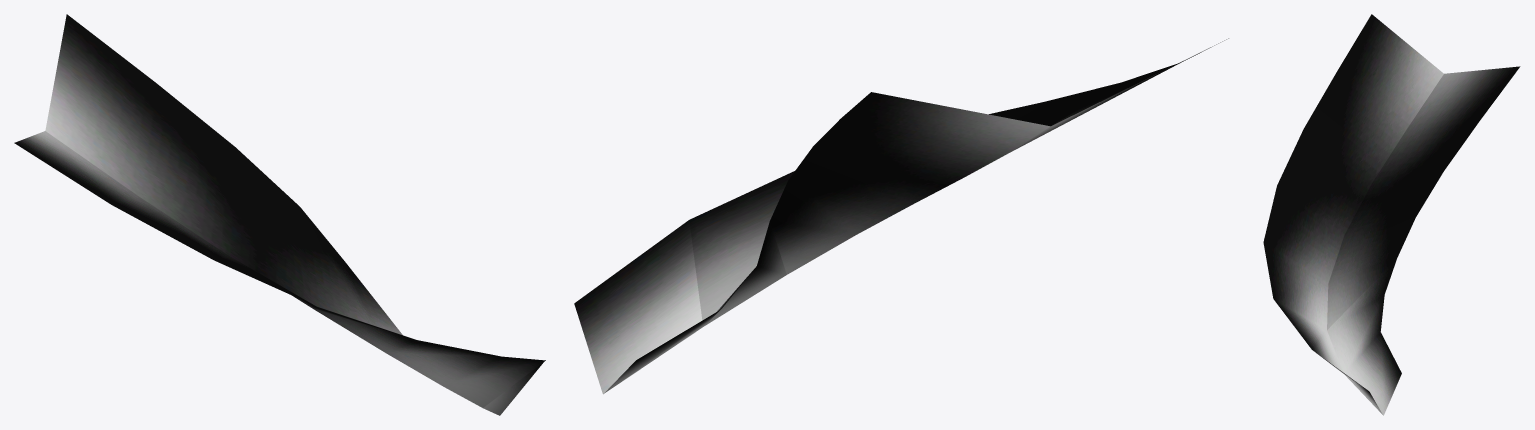
File: vfx_kurp_0957.dae
3 views of the same model, side by side, from view 1: azimuth 30°, elevation 25°; view 2: azimuth 150°, elevation 25°; view 3: azimuth 270°, elevation 25° (orthographic). The views are drawn at different scales.
Parts seen in each view (by area): view 1: vfx_kurp_0957; view 2: vfx_kurp_0957; view 3: vfx_kurp_0957.
Part boxes in pixels (bbox=[...]): vfx_kurp_0957: bbox=[14, 14, 545, 415]; vfx_kurp_0957: bbox=[574, 38, 1228, 394]; vfx_kurp_0957: bbox=[1263, 14, 1520, 415].
Size of the model in its own units: 4.89 by 3.29 by 3.54.
Materials: 1 (1 with a texture image).
